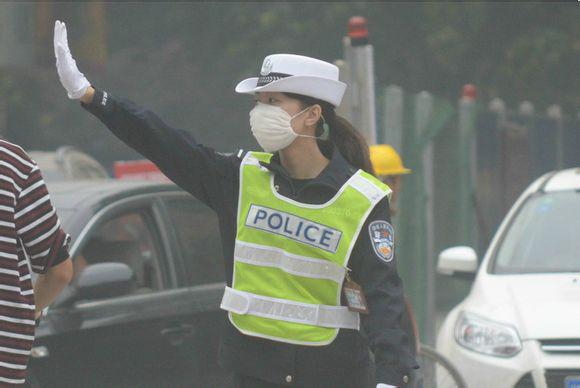OK: (249, 88, 310, 153)
